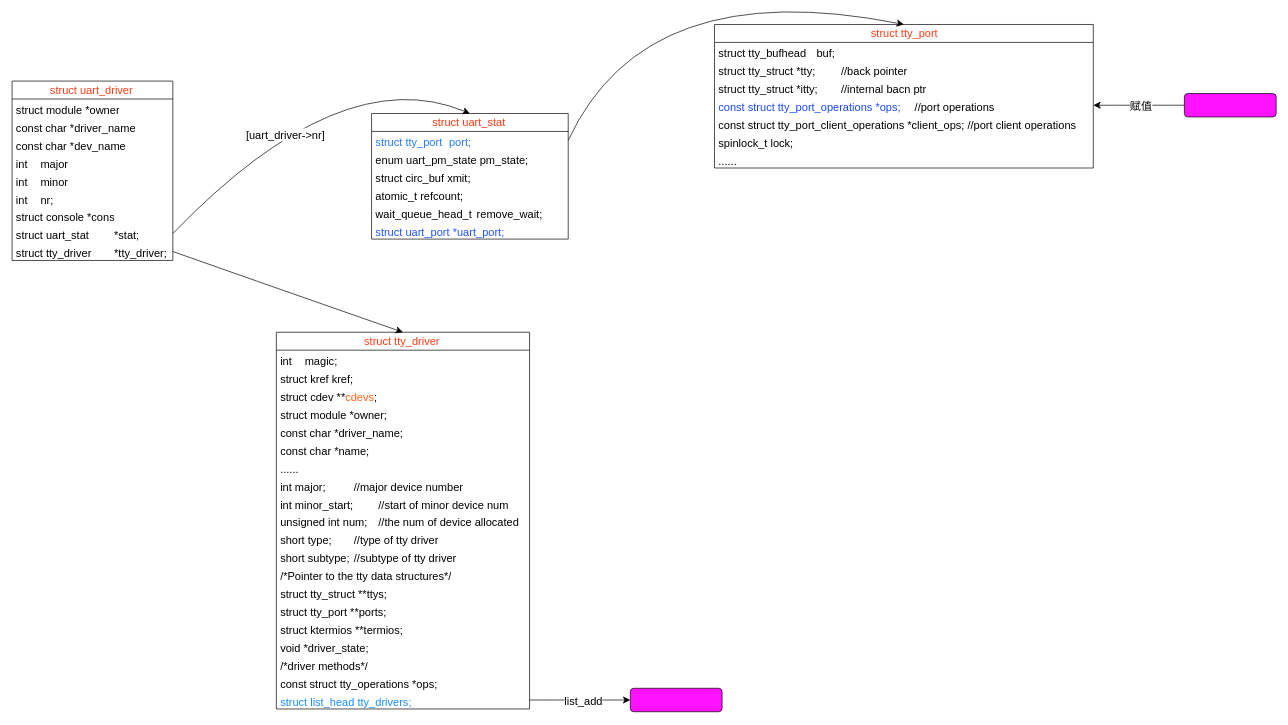
The diagram is 1288 pixels wide and 725 high, and some of its shapes have lost their labels. The shapes that lost their labels are listed below. From the top down, each one's centre as x and y in pixels, then its label:
[1230,105]: (g) uart_port_ops
[676,700]: (g) tty_drivers
